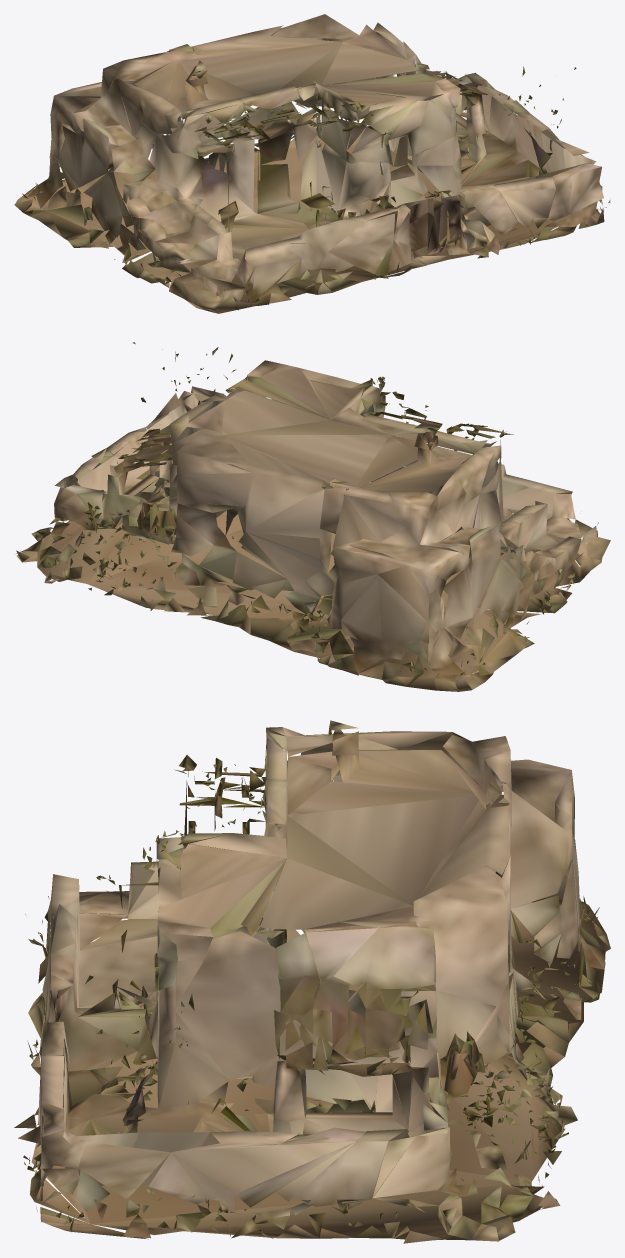
The model's file is Olive_Grove_Cottage_town.glb.
3 views of the same model, one above another, from view 1: azimuth 30°, elevation 25°; view 2: azimuth 150°, elevation 25°; view 3: azimuth 270°, elevation 25° (orthographic). The views are drawn at different scales.
Visible parts, largest first — view 1: Olive_Grove_Cottage; view 2: Olive_Grove_Cottage; view 3: Olive_Grove_Cottage.
Part boxes in pixels (bbox=[...]): Olive_Grove_Cottage: bbox=[14, 14, 610, 313]; Olive_Grove_Cottage: bbox=[16, 342, 610, 691]; Olive_Grove_Cottage: bbox=[14, 720, 610, 1243].
Size of the model in its own units: 1.8 by 0.639 by 1.3.
Materials: 1 (1 with a texture image).
